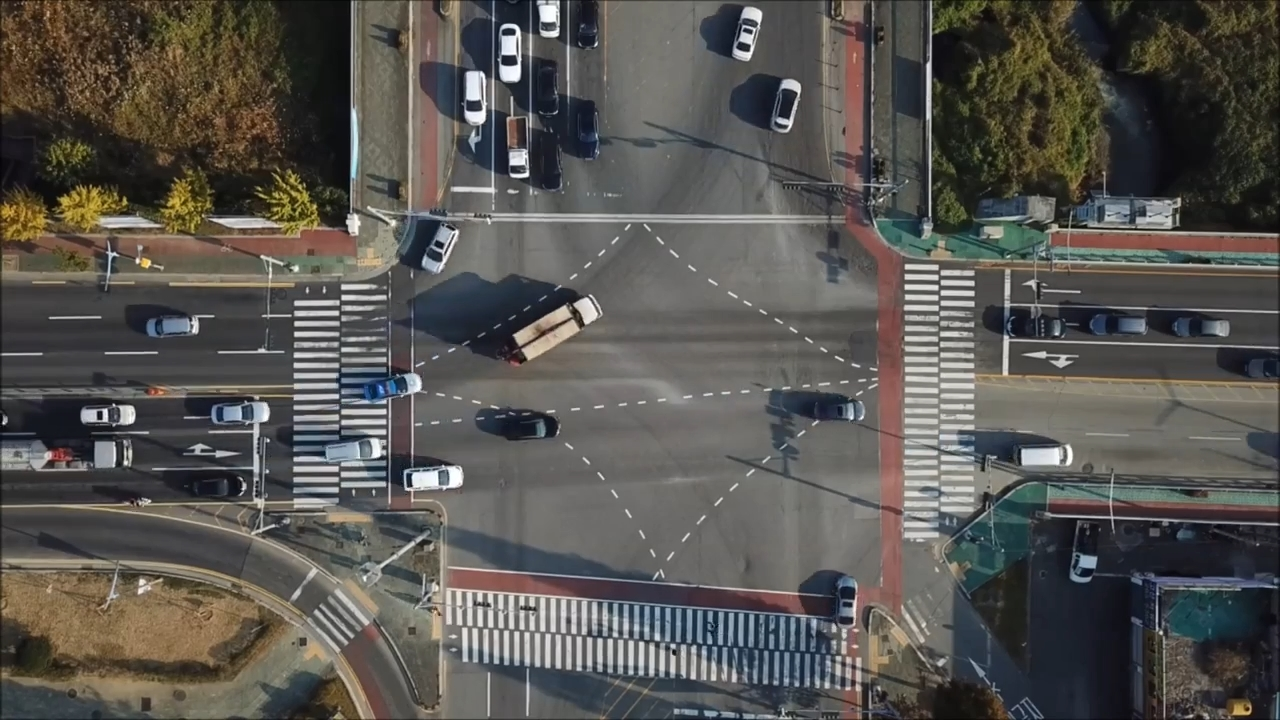car: (496, 292, 602, 369), (1, 436, 131, 472), (421, 219, 463, 275), (726, 6, 765, 61), (768, 79, 804, 136), (361, 371, 422, 404), (1067, 521, 1097, 586), (404, 464, 465, 494), (492, 21, 519, 85), (321, 437, 380, 465), (535, 124, 560, 189), (1002, 318, 1066, 342), (214, 402, 274, 427), (505, 117, 529, 179), (532, 60, 557, 119), (1091, 315, 1152, 339), (505, 415, 563, 440), (77, 404, 136, 428), (463, 69, 487, 128), (145, 315, 200, 340), (1013, 443, 1074, 465), (188, 476, 246, 499), (574, 102, 596, 162), (1169, 318, 1234, 338), (812, 400, 865, 423), (836, 576, 858, 631), (573, 1, 595, 50), (533, 1, 559, 36), (1248, 353, 1280, 380)
